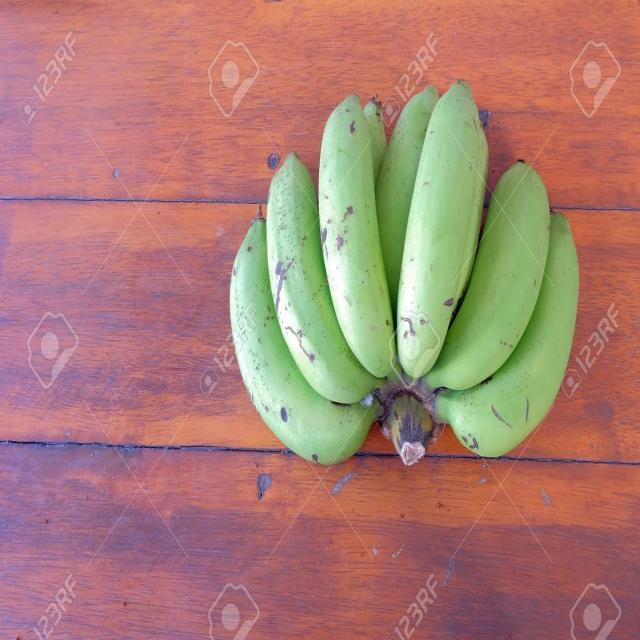banana: (225, 71, 586, 476)
